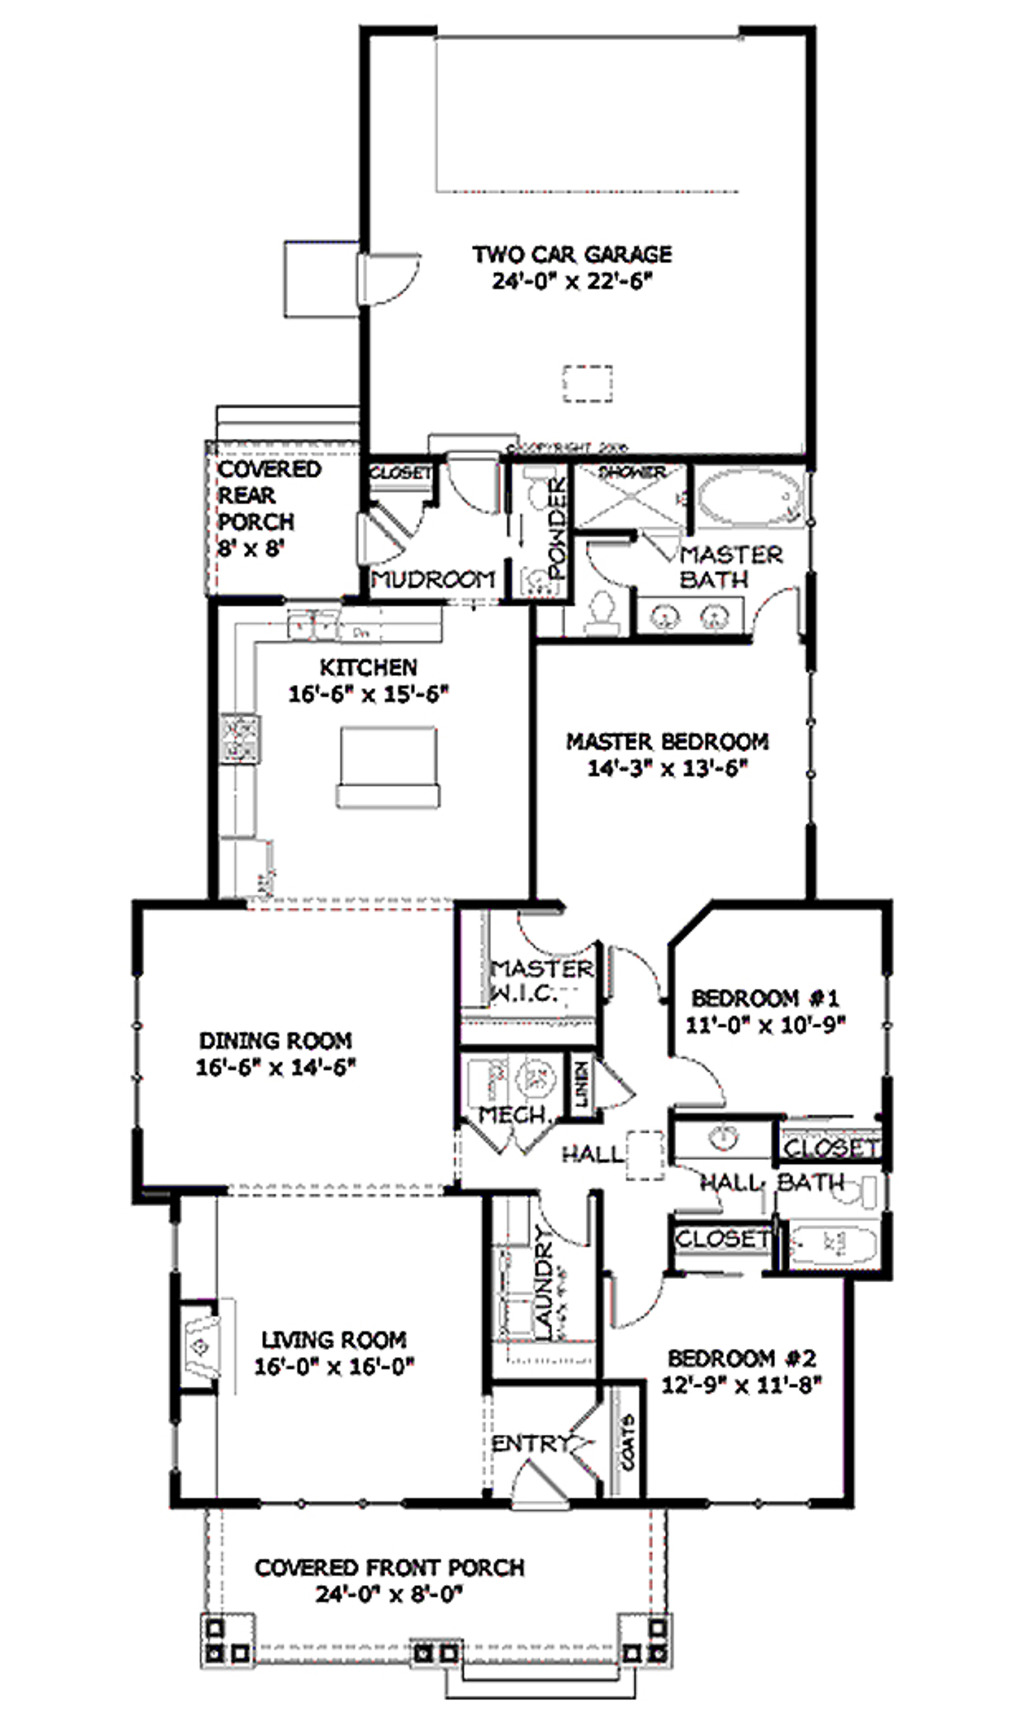door: (434, 436, 516, 527), (354, 247, 449, 321), (532, 1176, 603, 1272), (450, 1102, 561, 1157), (490, 893, 584, 956), (592, 942, 684, 1002), (343, 509, 408, 577), (581, 531, 650, 592), (653, 1155, 724, 1213), (492, 1455, 563, 1513), (375, 478, 436, 544), (753, 578, 808, 650), (669, 1049, 734, 1110), (608, 1276, 669, 1340), (569, 1397, 605, 1481), (595, 1060, 638, 1113)
large_sink: (811, 1160, 879, 1222), (581, 586, 631, 647), (516, 455, 563, 516)
small_sink: (629, 577, 758, 642), (513, 563, 550, 607)
tub: (774, 1221, 898, 1281)
twin_sink: (266, 600, 390, 659)
window: (798, 659, 840, 831), (124, 971, 163, 1131), (703, 1478, 824, 1515), (258, 1492, 432, 1510), (876, 968, 894, 1099)
